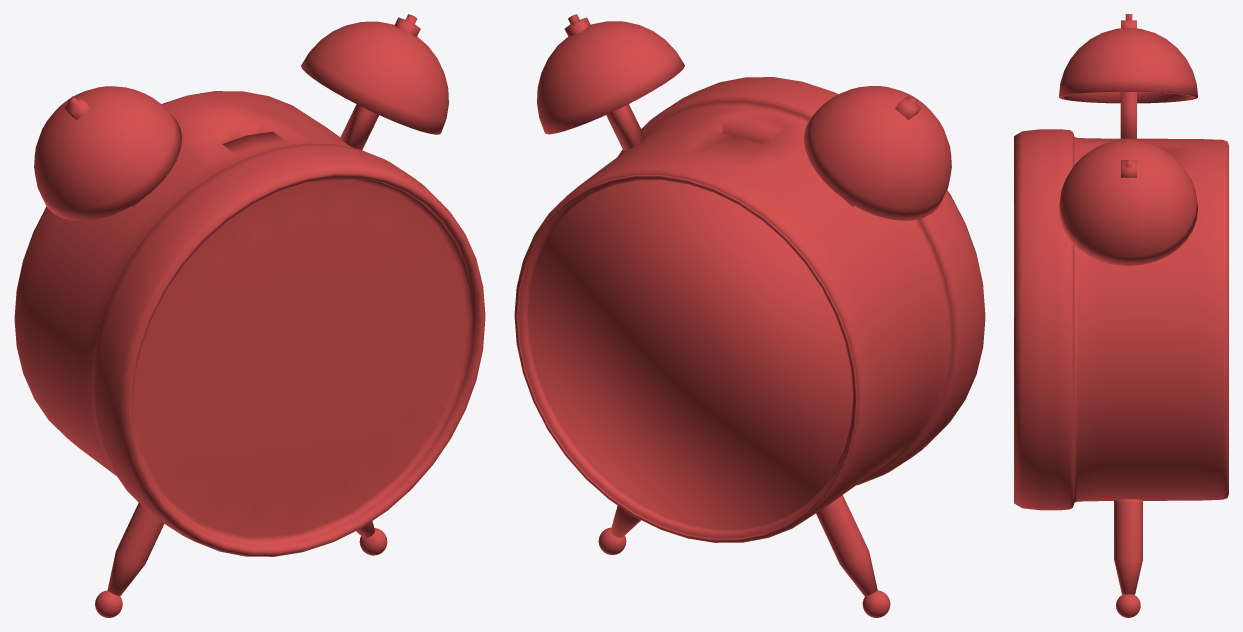
The model's file is reloj.obj.
3 renders of one model, left to right at view 1: azimuth 30°, elevation 25°; view 2: azimuth 150°, elevation 25°; view 3: azimuth 270°, elevation 25°, orthographic. The views are drawn at different scales.
Visible parts, largest first — view 1: reloj:Mesh; view 2: reloj:Mesh; view 3: reloj:Mesh.
Part boxes in pixels (bbox=[...]): reloj:Mesh: bbox=[14, 14, 485, 617]; reloj:Mesh: bbox=[514, 14, 985, 617]; reloj:Mesh: bbox=[1014, 14, 1228, 617].
Bounding box in the file's own units: 0.1816 × 0.2333 × 0.096.
3 materials, 3 textured.
